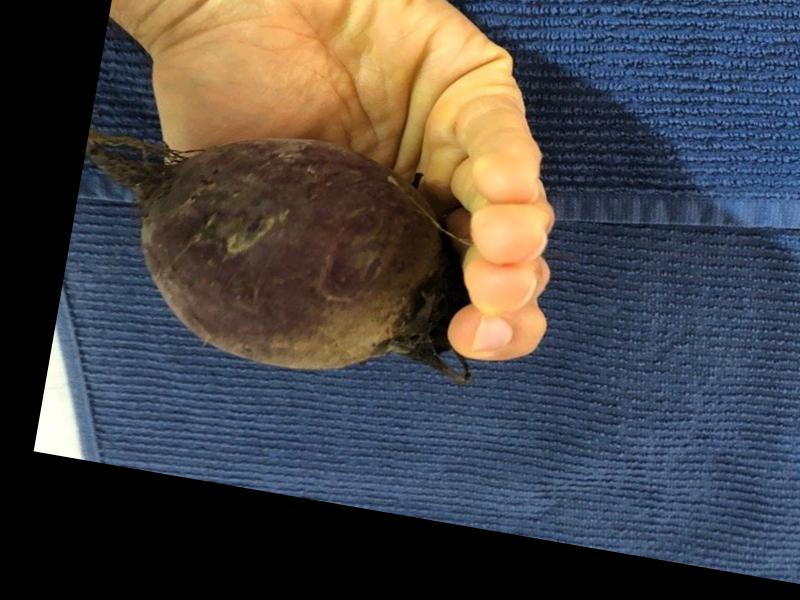Beet: (59, 101, 511, 398)
